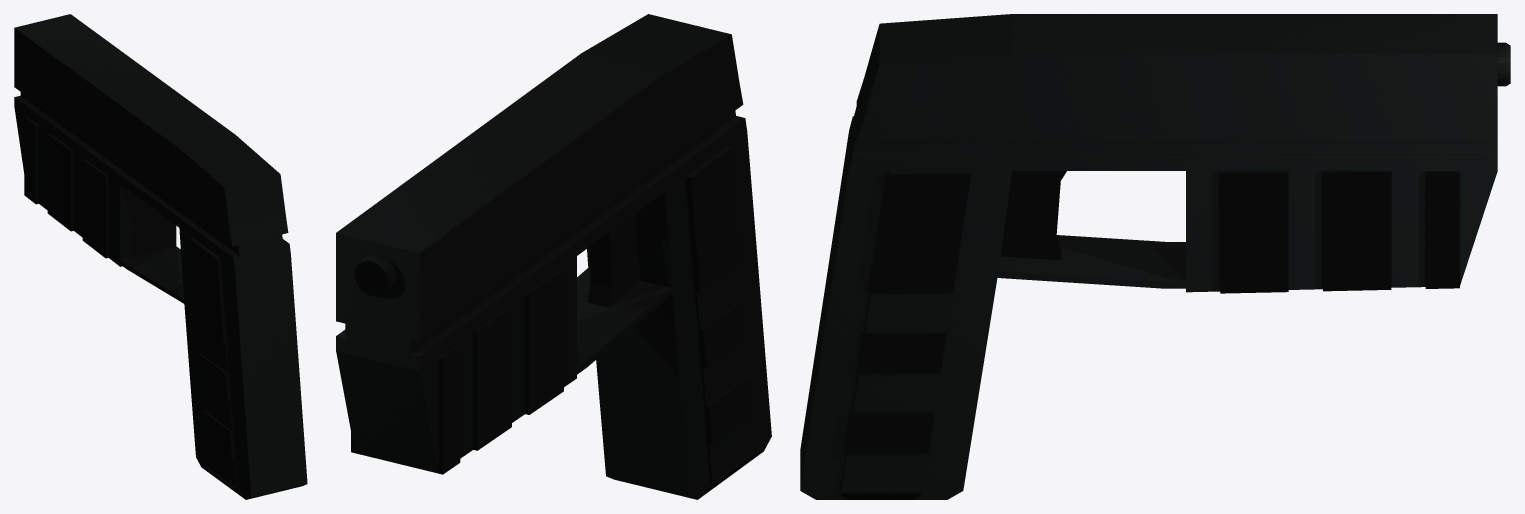
The model's file is scifi-blaster.glb.
3 views of the same model, side by side, from view 1: azimuth 30°, elevation 25°; view 2: azimuth 150°, elevation 25°; view 3: azimuth 270°, elevation 25° (orthographic). The views are drawn at different scales.
Parts seen in each view (by area): view 1: Cube; view 2: Cube; view 3: Cube.
Part boxes in pixels (bbox=[...]): Cube: bbox=[14, 14, 307, 499]; Cube: bbox=[336, 14, 771, 499]; Cube: bbox=[800, 14, 1510, 499].
Size of the model in its own units: 0.7847 by 3.58 by 5.18.
1 material, 1 textured.
